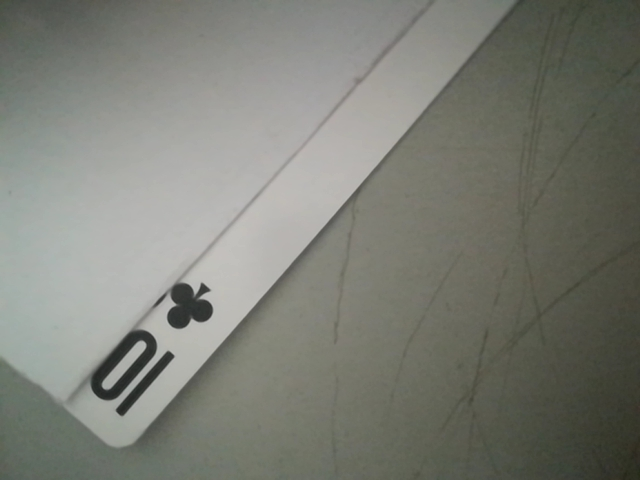mh 10: (69, 272, 223, 436)
